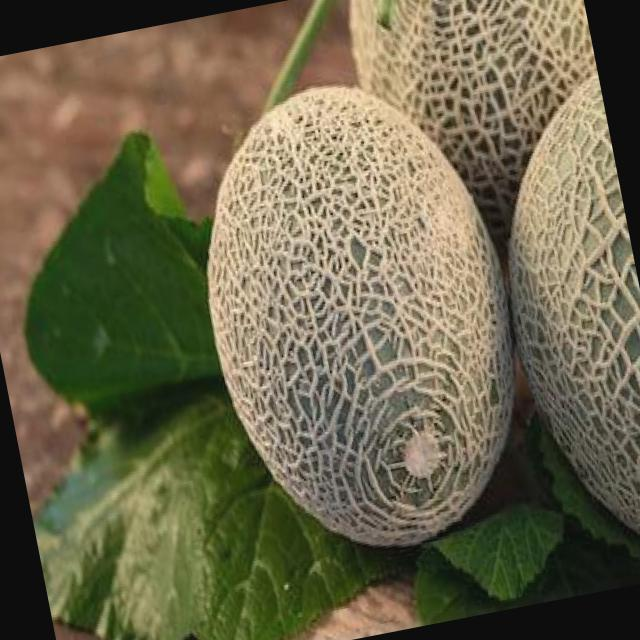cantaloupe: (170, 59, 551, 574)
